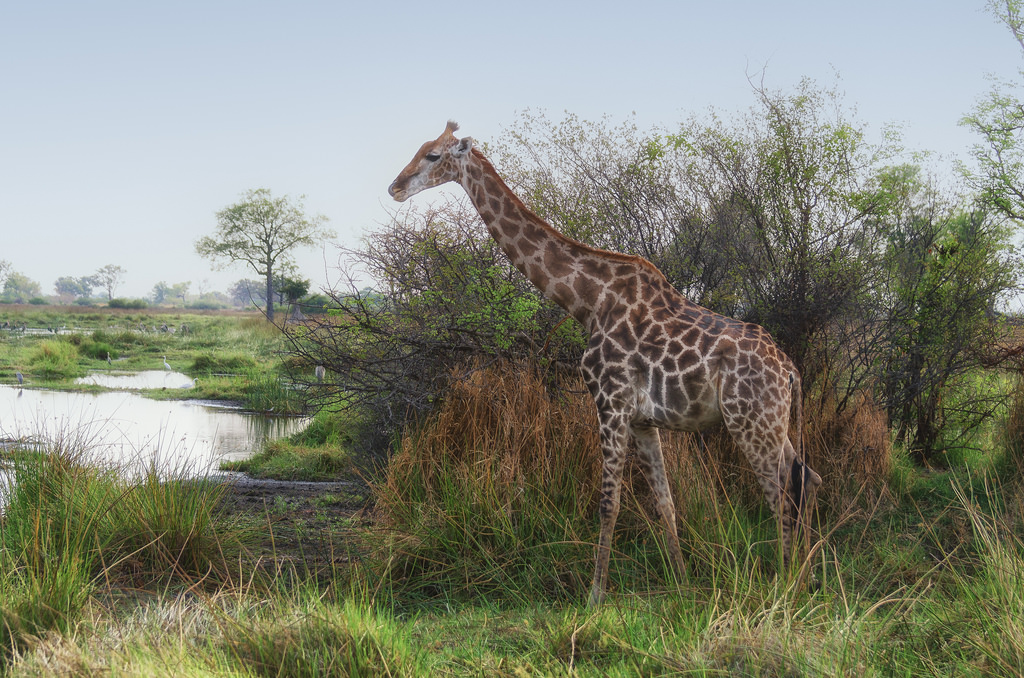giraffe: (360, 116, 850, 637)
